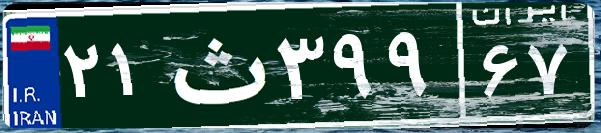1: (110, 28, 158, 105)
2: (57, 26, 110, 107)
3: (273, 28, 330, 110)
6: (475, 38, 525, 113)
7: (525, 38, 570, 115)
9: (385, 28, 445, 110), (330, 28, 385, 110)
ث: (158, 15, 273, 115)
